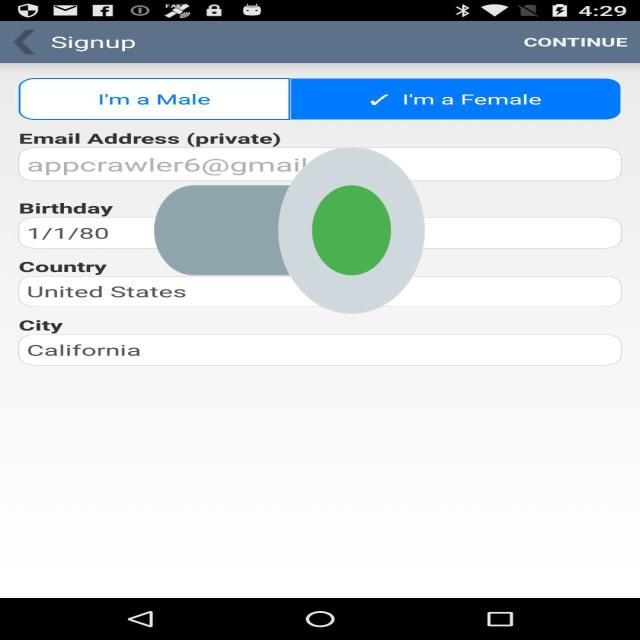social proof: (154, 76, 425, 385)
